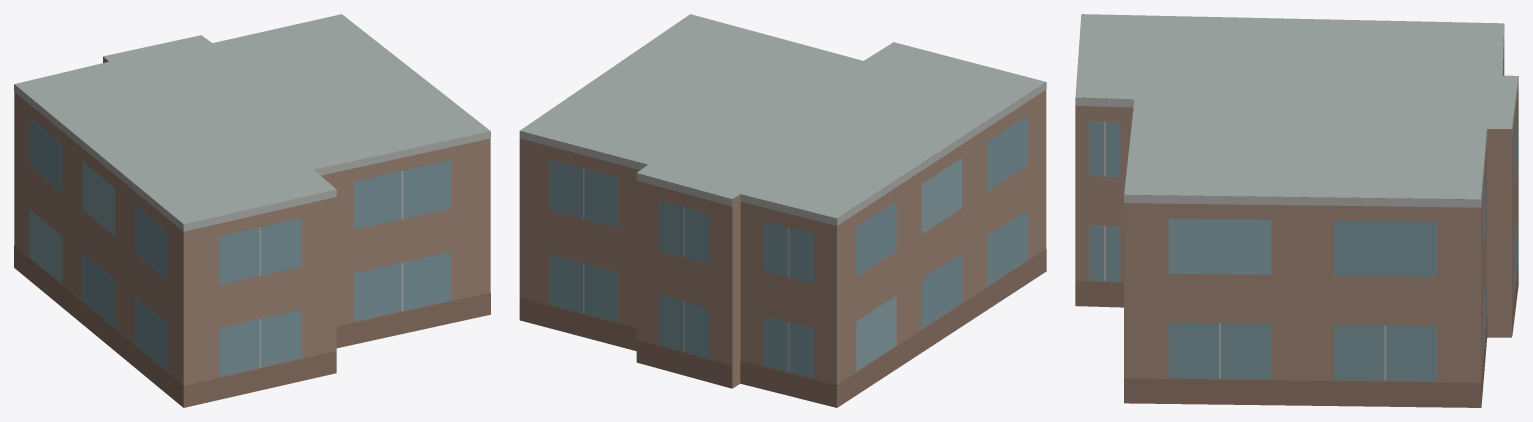
File: survey-upis-32984738.glb
3 renders of one model, left to right at view 1: azimuth 30°, elevation 25°; view 2: azimuth 150°, elevation 25°; view 3: azimuth 270°, elevation 25°, orthographic. The views are drawn at different scales.
Parts seen in each view (by area): view 1: survey-upis-32984738.tmp; view 2: survey-upis-32984738.tmp; view 3: survey-upis-32984738.tmp.
Part boxes in pixels (left/top/right/bottom): survey-upis-32984738.tmp: left=14, top=14, right=490, bottom=407; survey-upis-32984738.tmp: left=519, top=14, right=1046, bottom=407; survey-upis-32984738.tmp: left=1075, top=14, right=1518, bottom=407.
Size of the model in its own units: 11.64 by 6.1 by 11.76.
